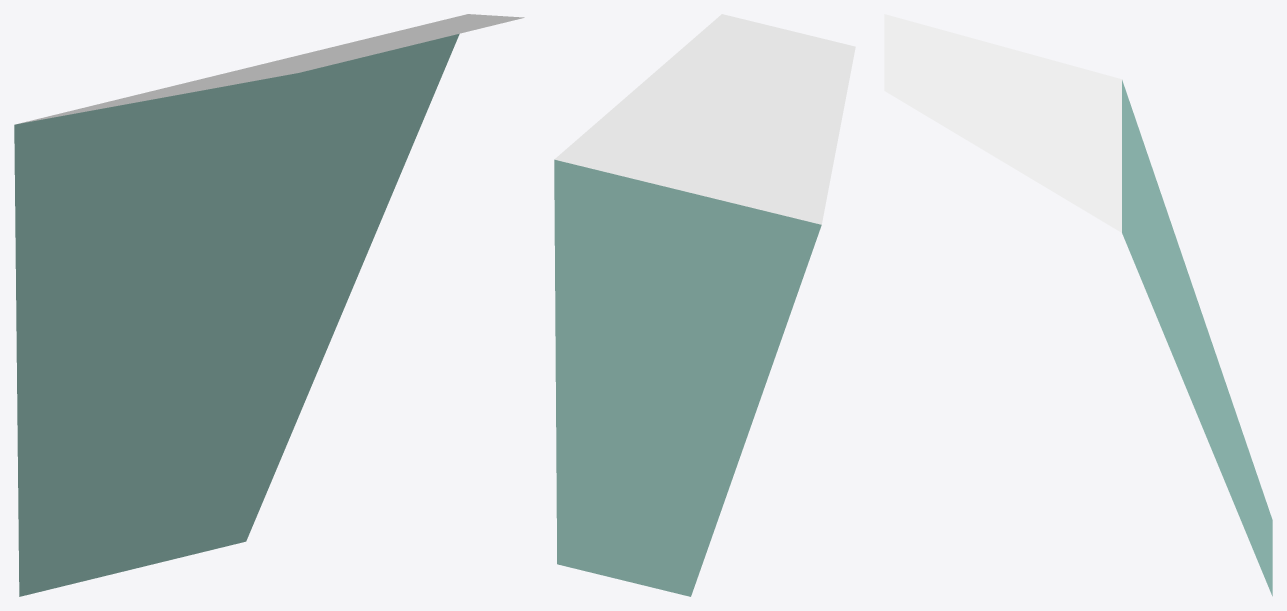
File: weedBush.glb
3 renders of one model, left to right at view 1: azimuth 30°, elevation 25°; view 2: azimuth 150°, elevation 25°; view 3: azimuth 270°, elevation 25°, orthographic. The views are drawn at different scales.
Parts seen in each view (by area): view 1: weed; view 2: weed; view 3: weed.
Part boxes in pixels (x1,y1,x2,y2): weed: [14, 14, 524, 596]; weed: [554, 14, 855, 596]; weed: [884, 14, 1272, 596].
Size of the model in its own units: 0.125 by 0.1918 by 0.1334.
1 material, 1 textured.
